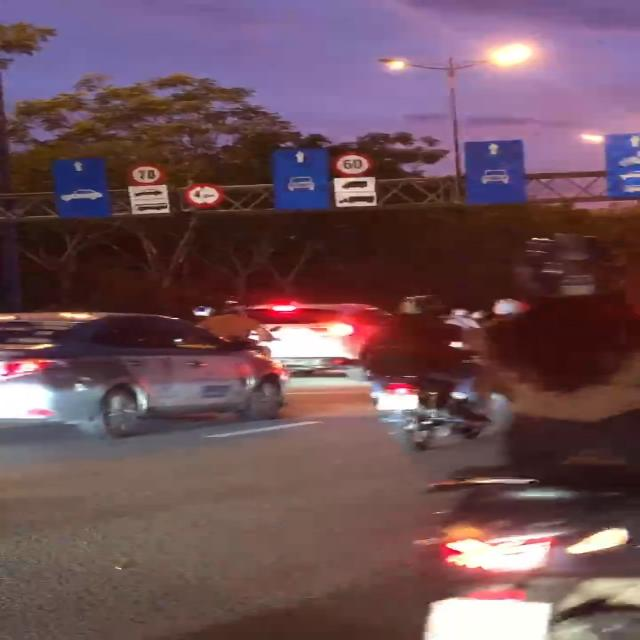Bien bao toc do toi da cho phep: (121, 162, 170, 188), (328, 152, 374, 178)
